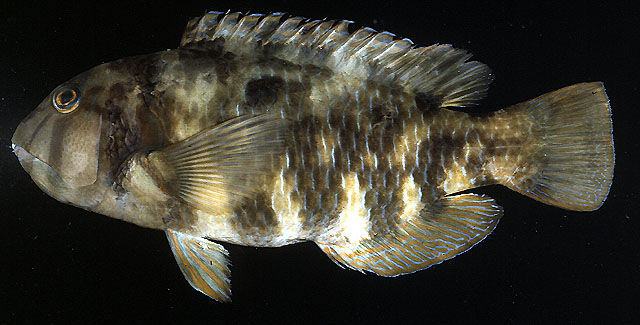fish: (10, 10, 615, 302)
